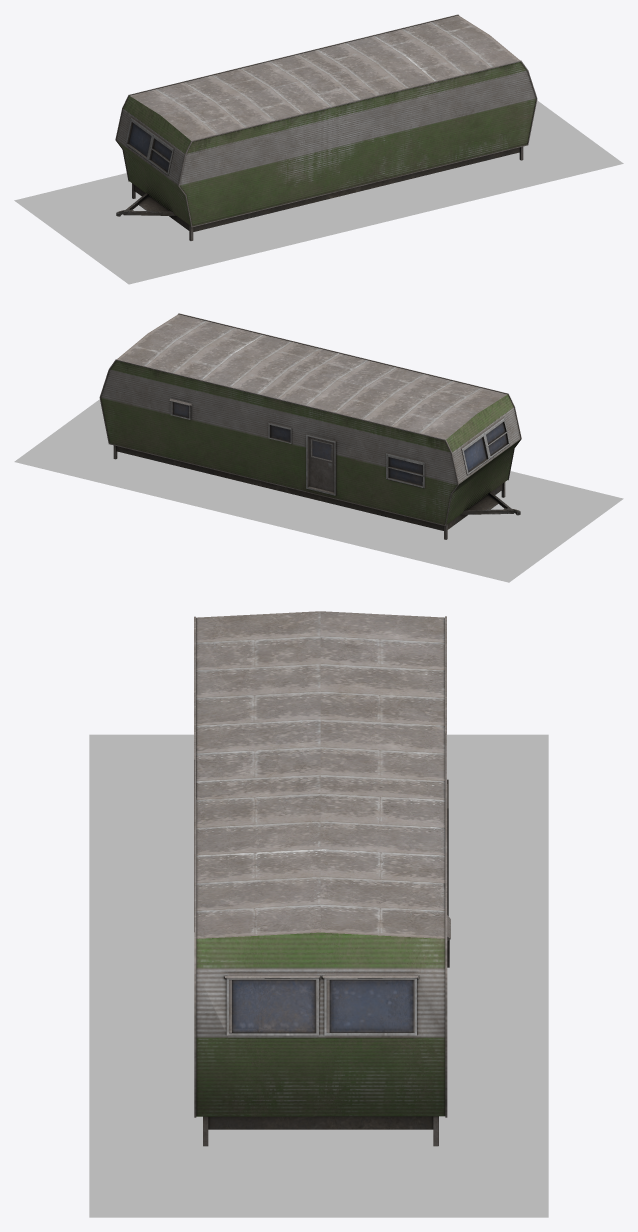
Rendered from trailera.FBX.
The picture shows the model from 3 angles, top to bottom: view 1: azimuth 30°, elevation 25°; view 2: azimuth 150°, elevation 25°; view 3: azimuth 270°, elevation 25°; orthographic projection. The views are drawn at different scales.
Visible parts, largest first — view 1: Object001, Plane001; view 2: Object001, Plane001; view 3: Object001, Plane001.
Boxes of the visible parts, x1,y1,x2,y2 form: Object001: (115, 14, 537, 240); Plane001: (14, 100, 623, 284); Object001: (99, 313, 521, 539); Plane001: (14, 399, 623, 582); Object001: (194, 611, 450, 1146); Plane001: (89, 734, 548, 1217).
Size of the model in its own units: 2328 by 473 by 936.
